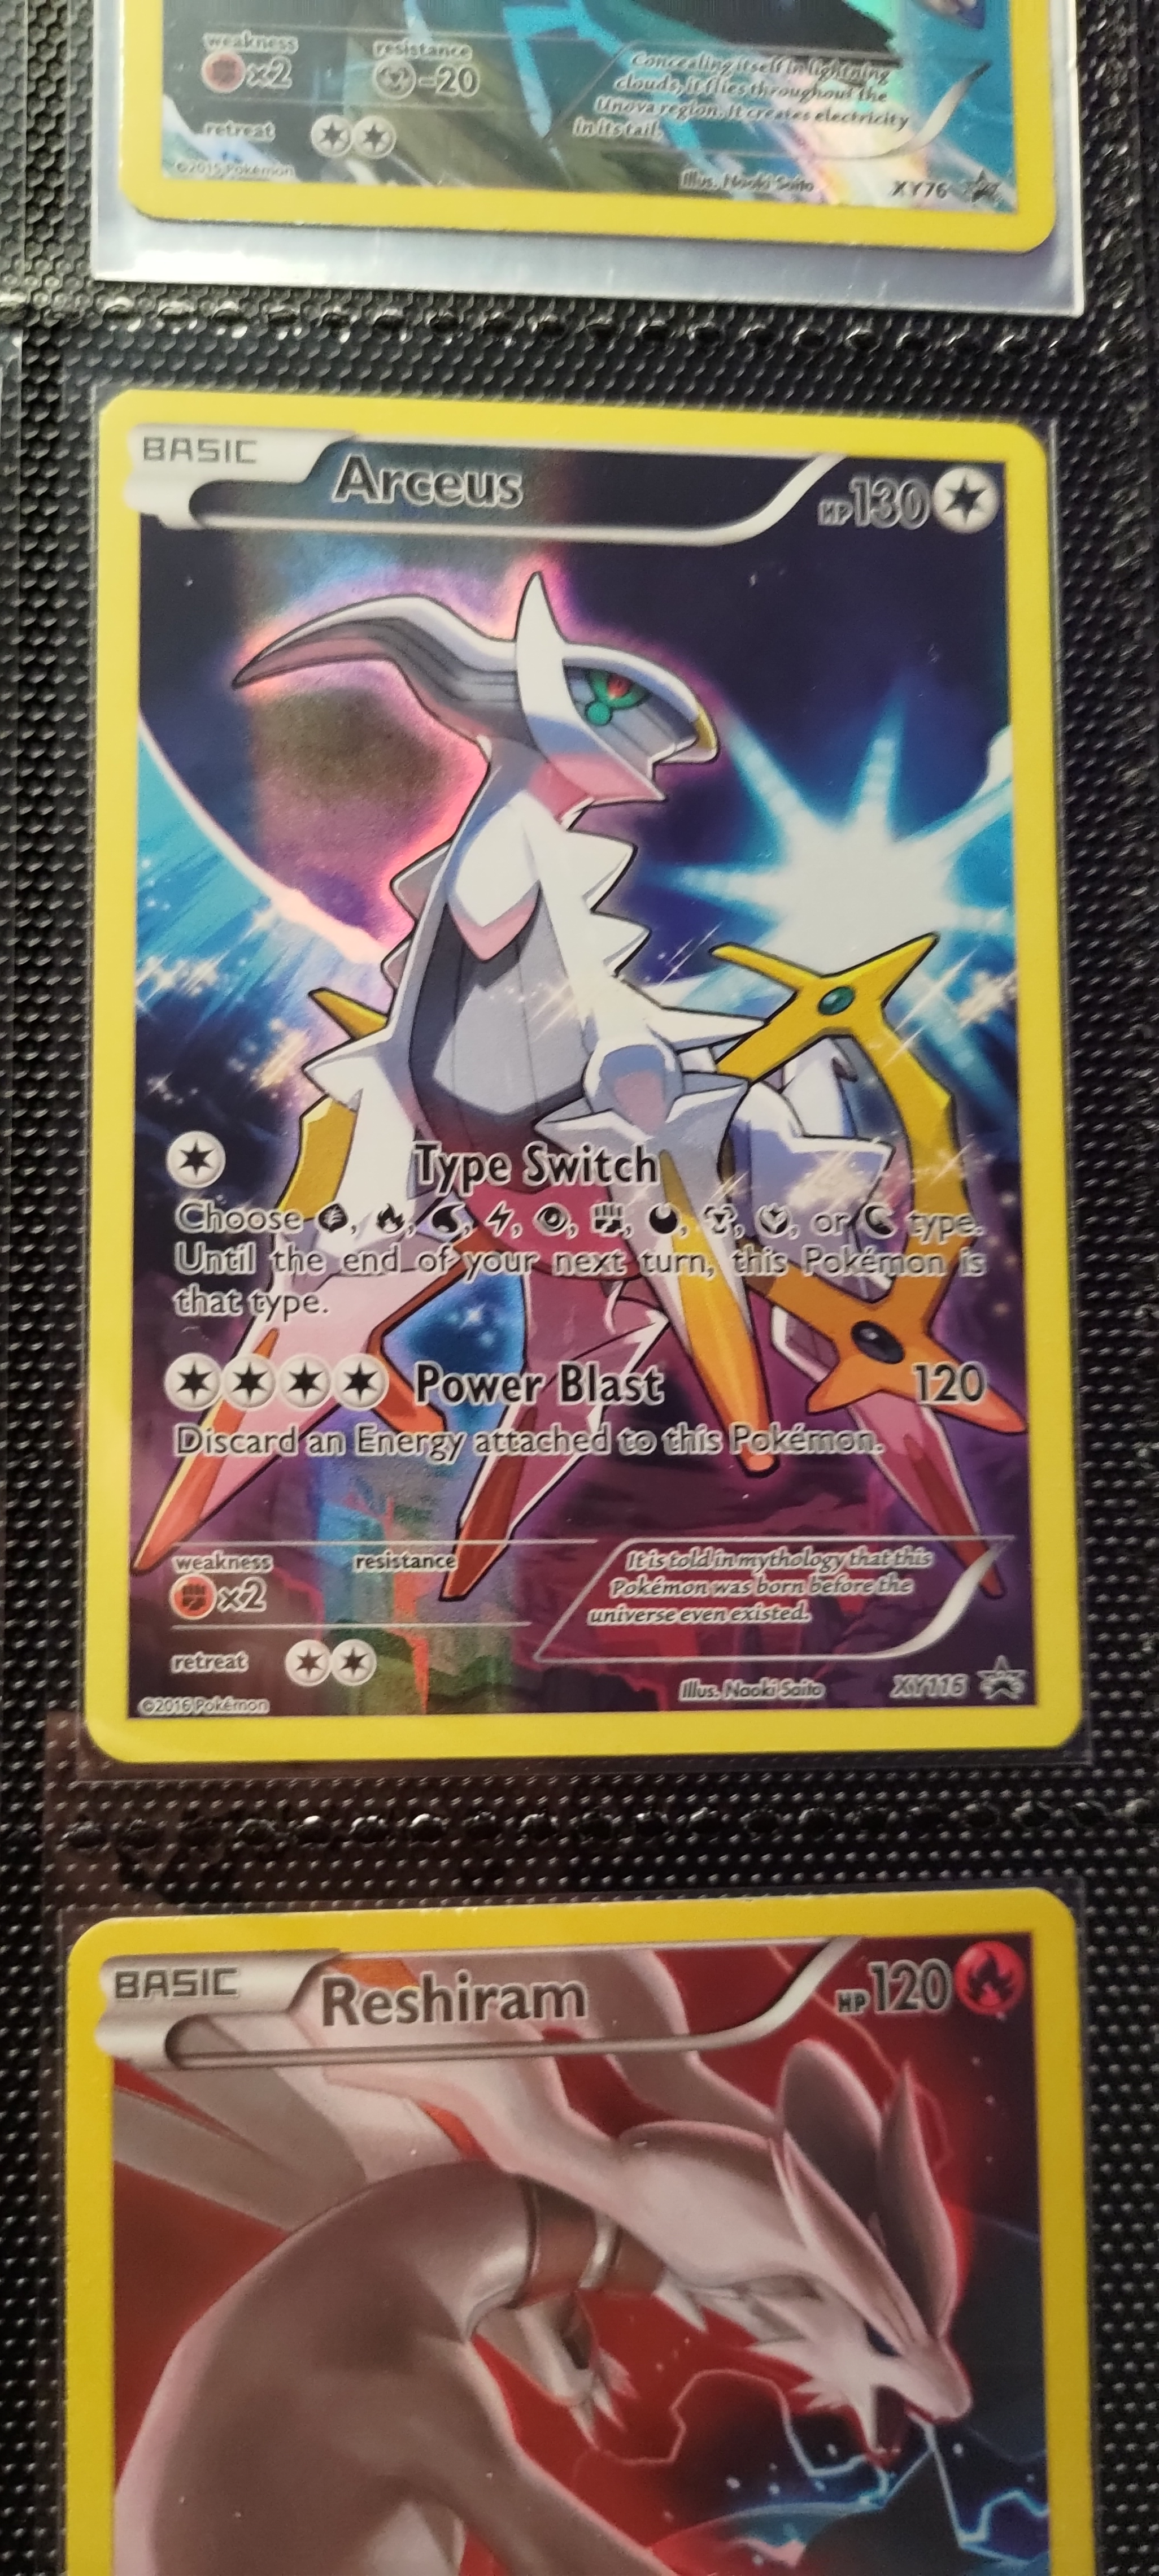pokemon_card: (54, 356, 1097, 1774)
